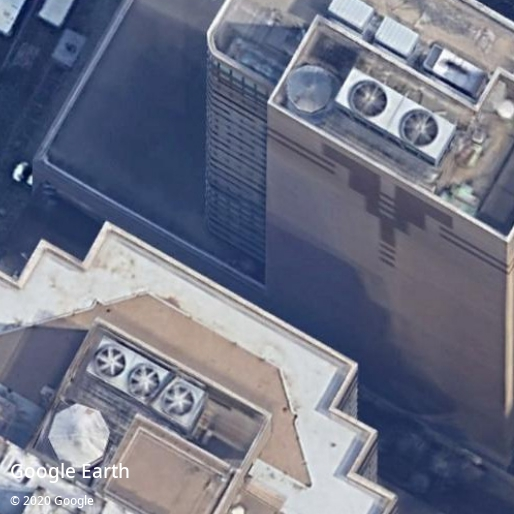Vent: (402, 110, 439, 146), (351, 82, 387, 117), (163, 385, 194, 416), (130, 366, 159, 397), (96, 347, 126, 376)
